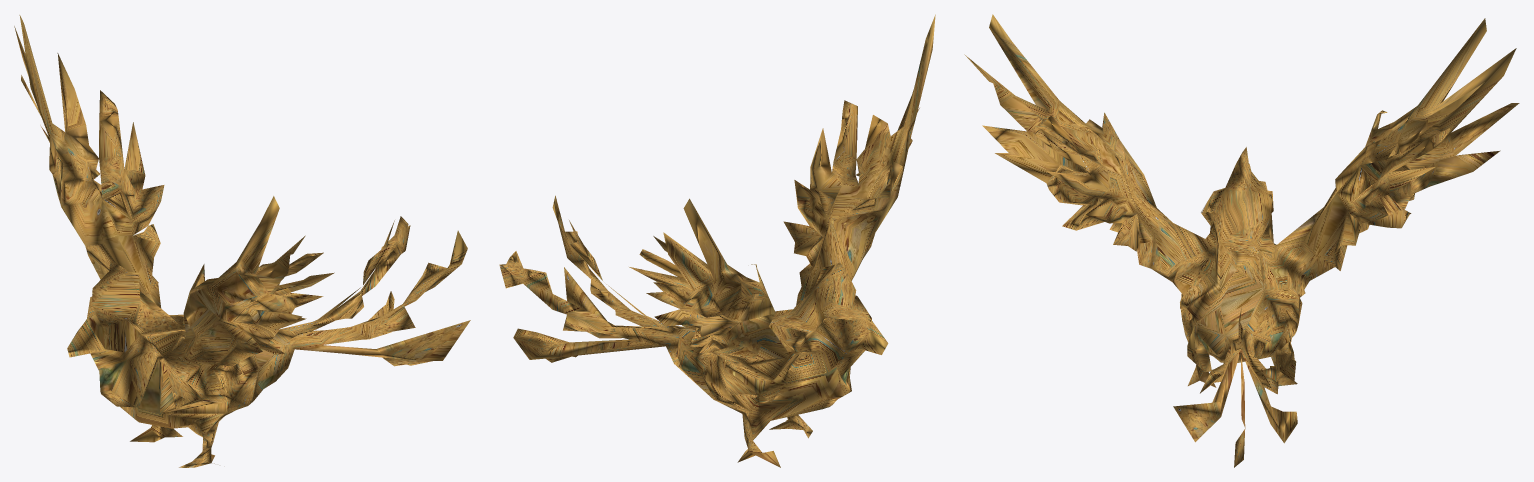
Rendered from a_eyebird.glb.
3 renders of one model, left to right at view 1: azimuth 30°, elevation 25°; view 2: azimuth 150°, elevation 25°; view 3: azimuth 270°, elevation 25°, orthographic. The views are drawn at different scales.
Parts seen in each view (by area): view 1: tripo_node_bce4d884-eee2-4653-8ef2-1adaa731812c; view 2: tripo_node_bce4d884-eee2-4653-8ef2-1adaa731812c; view 3: tripo_node_bce4d884-eee2-4653-8ef2-1adaa731812c.
Boxes of the visible parts, x1,y1,x2,y2 form: tripo_node_bce4d884-eee2-4653-8ef2-1adaa731812c: [14, 15, 470, 467]; tripo_node_bce4d884-eee2-4653-8ef2-1adaa731812c: [499, 14, 935, 467]; tripo_node_bce4d884-eee2-4653-8ef2-1adaa731812c: [964, 14, 1519, 467].
Bounding box in the file's own units: 0.743 × 0.6828 × 0.9876.
1 material, 1 textured.
